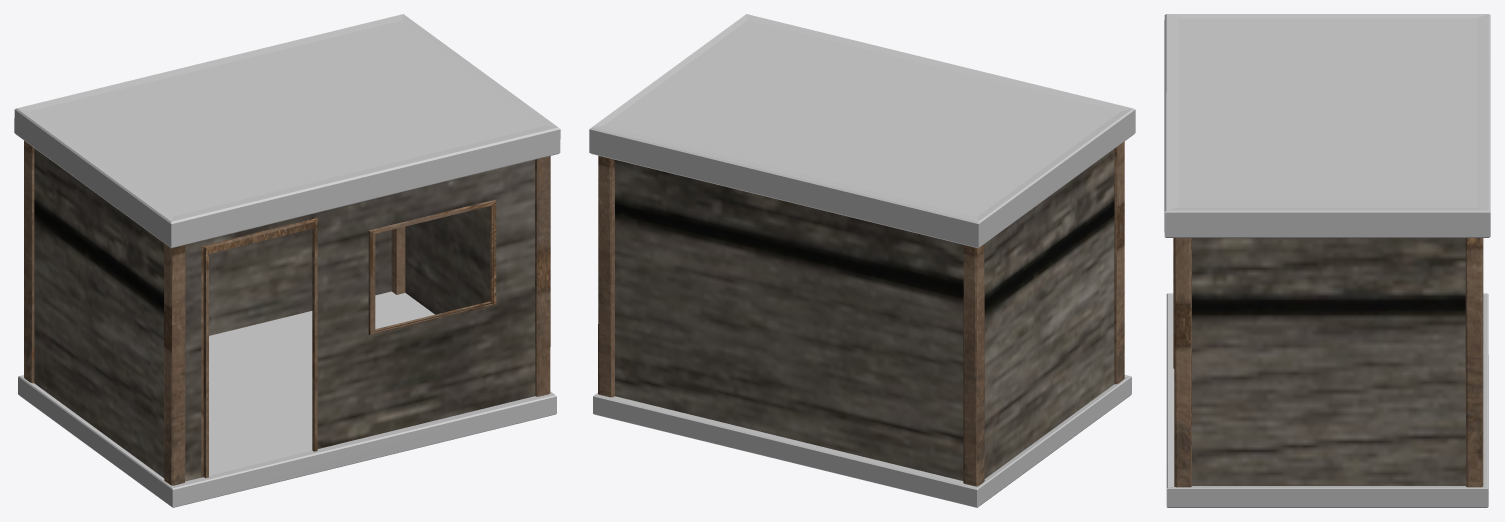
The model's file is Shed.fbx.
The picture shows the model from 3 angles, left to right: view 1: azimuth 30°, elevation 25°; view 2: azimuth 150°, elevation 25°; view 3: azimuth 270°, elevation 25°; orthographic projection. The views are drawn at different scales.
Parts seen in each view (by area): view 1: Shed; view 2: Shed; view 3: Shed.
Part boxes in pixels (box(x1,y1,x2,y2)): Shed: box(14, 14, 560, 507); Shed: box(589, 14, 1135, 507); Shed: box(1164, 14, 1490, 507).
Bounding box in the file's own units: 626 × 441 × 437.
